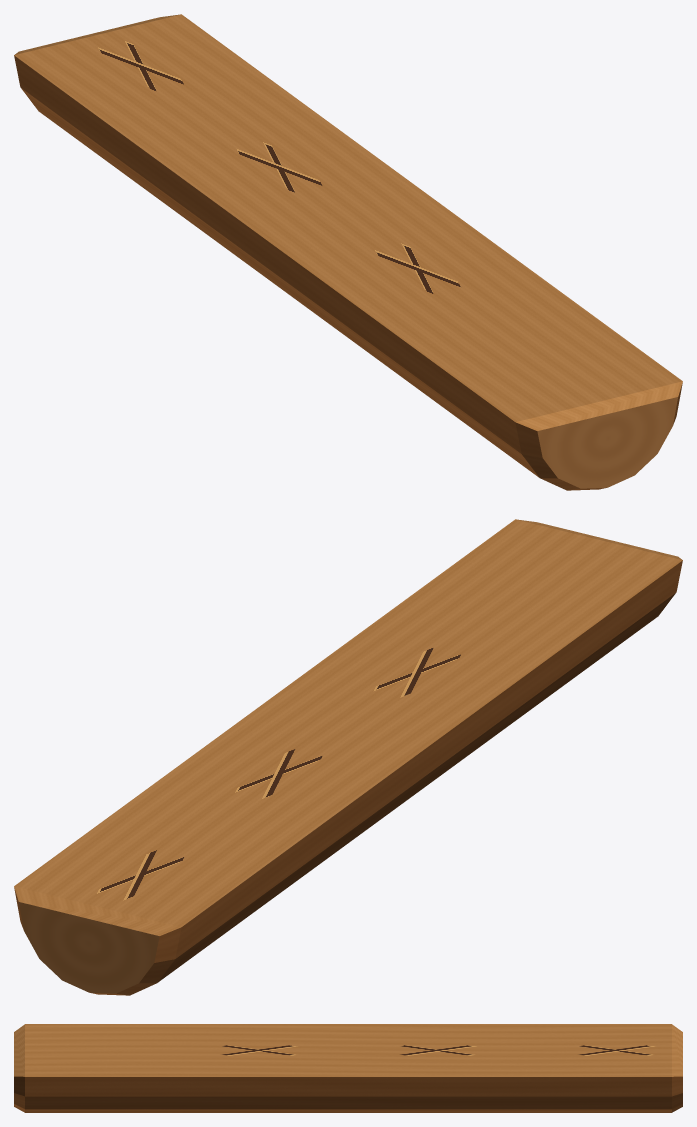
Rendered from Yut_Standard.obj.
3 renders of one model, top to bottom at view 1: azimuth 30°, elevation 25°; view 2: azimuth 150°, elevation 25°; view 3: azimuth 270°, elevation 25°, orthographic. The views are drawn at different scales.
Parts seen in each view (by area): view 1: Yut_Standard; view 2: Yut_Standard; view 3: Yut_Standard.
Part boxes in pixels (x1=…): Yut_Standard: x1=14, y1=14, x2=682, y2=490; Yut_Standard: x1=14, y1=519, x2=682, y2=995; Yut_Standard: x1=14, y1=1024, x2=682, y2=1112.
Size of the model in its own units: 0.056 by 0.028 by 0.3.
Materials: 1 (1 with a texture image).
